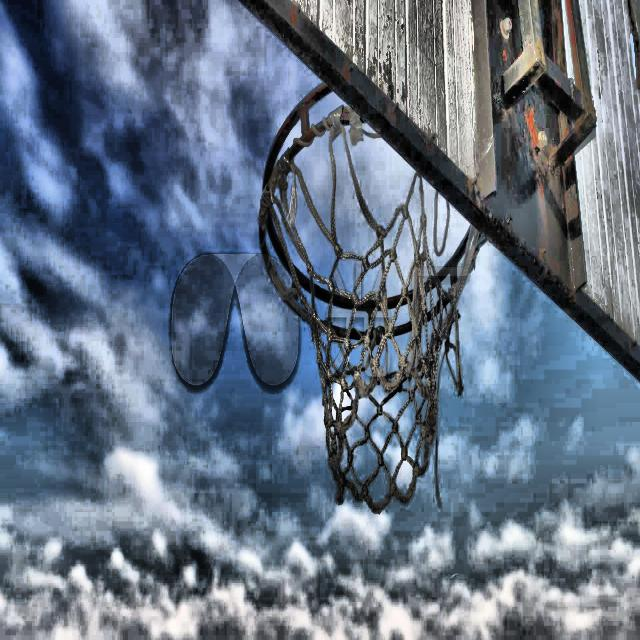rim: (258, 84, 476, 507)
